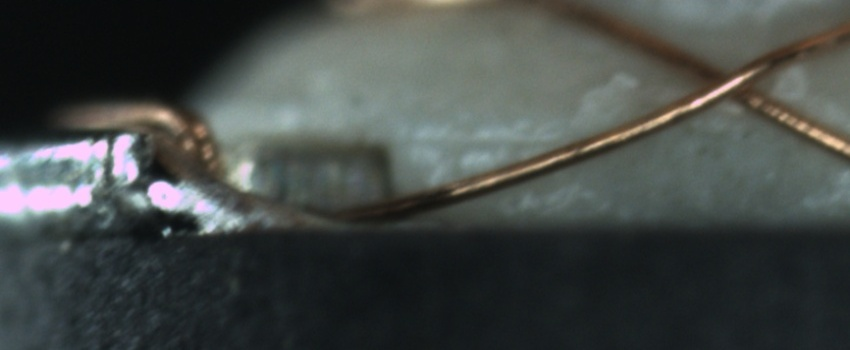CL: (670, 41, 794, 124)
DL: (423, 109, 579, 173)
TE: (48, 97, 228, 195)
